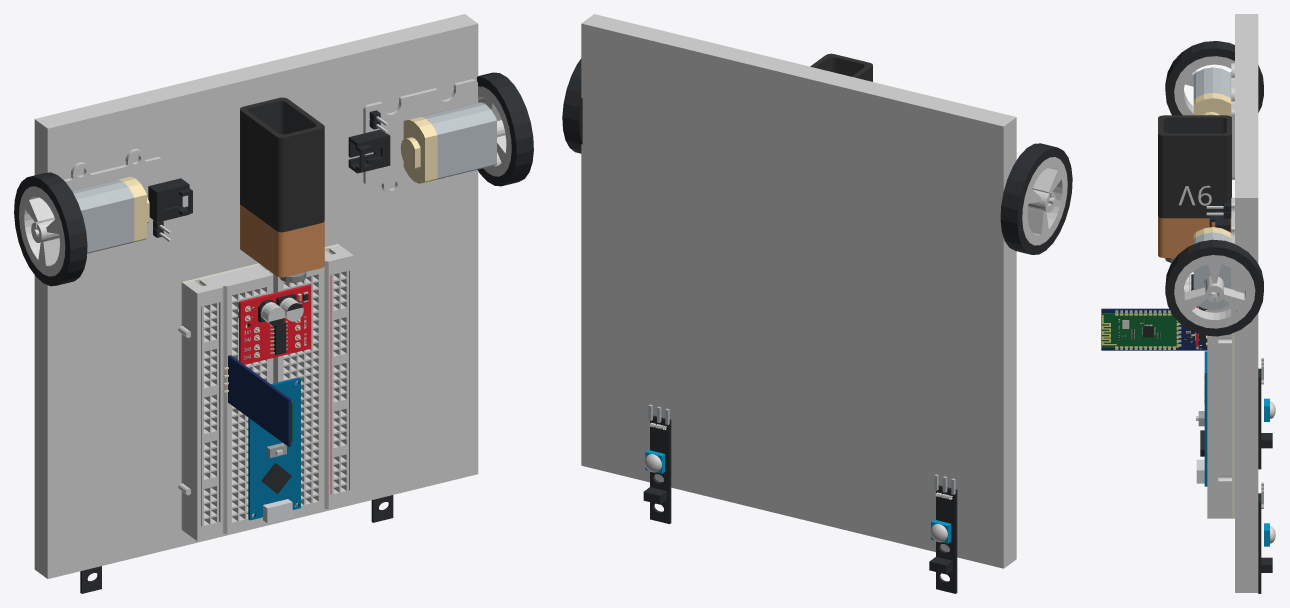
Rendered from tinker.obj.
3 renders of one model, left to right at view 1: azimuth 30°, elevation 25°; view 2: azimuth 150°, elevation 25°; view 3: azimuth 270°, elevation 25°, orthographic. The views are drawn at different scales.
Parts seen in each view (by area): view 1: group_0_16448250, group_0_2829873, group_0_3355443, group_0_12568524, group_0_30377, group_0_13667415, group_0_15277357, group_0_16311991, group_0_1650274, group_0_-1037357519, group_0_14541540, group_0_15263957; view 2: group_0_16448250, group_0_2829873, group_0_3355443; view 3: group_0_16448250, group_0_3355443, group_0_2829873, group_0_1206582, group_0_12568524, group_0_13667415, group_0_16311991, group_0_-1037357519, group_0_1650274, group_0_14541540, group_0_15263957, group_0_30377 (+3 smaller).
Part boxes in pixels (x1,y1,x2,y2): group_0_16448250: (19,14,511,578); group_0_2829873: (14,72,533,593); group_0_3355443: (240,97,324,232); group_0_12568524: (72,102,496,302); group_0_30377: (248,301,301,520); group_0_13667415: (240,204,324,277); group_0_15277357: (201,275,331,526); group_0_16311991: (116,116,437,392); group_0_1650274: (228,355,291,446); group_0_-1037357519: (248,101,315,133); group_0_14541540: (33,116,387,523); group_0_15263957: (181,244,339,530); group_0_16448250: (581,14,1067,568); group_0_2829873: (562,58,1072,593); group_0_3355443: (810,53,872,81); group_0_16448250: (1118,14,1275,592); group_0_3355443: (1158,115,1231,218); group_0_2829873: (1118,41,1272,593); group_0_1206582: (1101,313,1178,347); group_0_12568524: (1193,67,1263,504); group_0_13667415: (1158,216,1231,257); group_0_16311991: (1191,93,1231,345); group_0_-1037357519: (1164,118,1226,133); group_0_1650274: (1101,308,1207,350); group_0_14541540: (1115,206,1223,483); group_0_15263957: (1232,332,1234,518); group_0_30377: (1204,351,1207,486).
Size of the model in its own units: 168 by 162 by 60.05.
